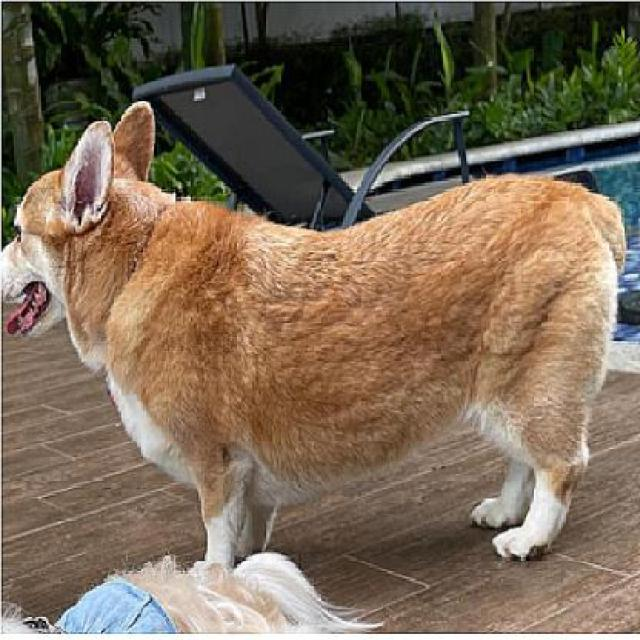Dog: (0, 99, 632, 595)
